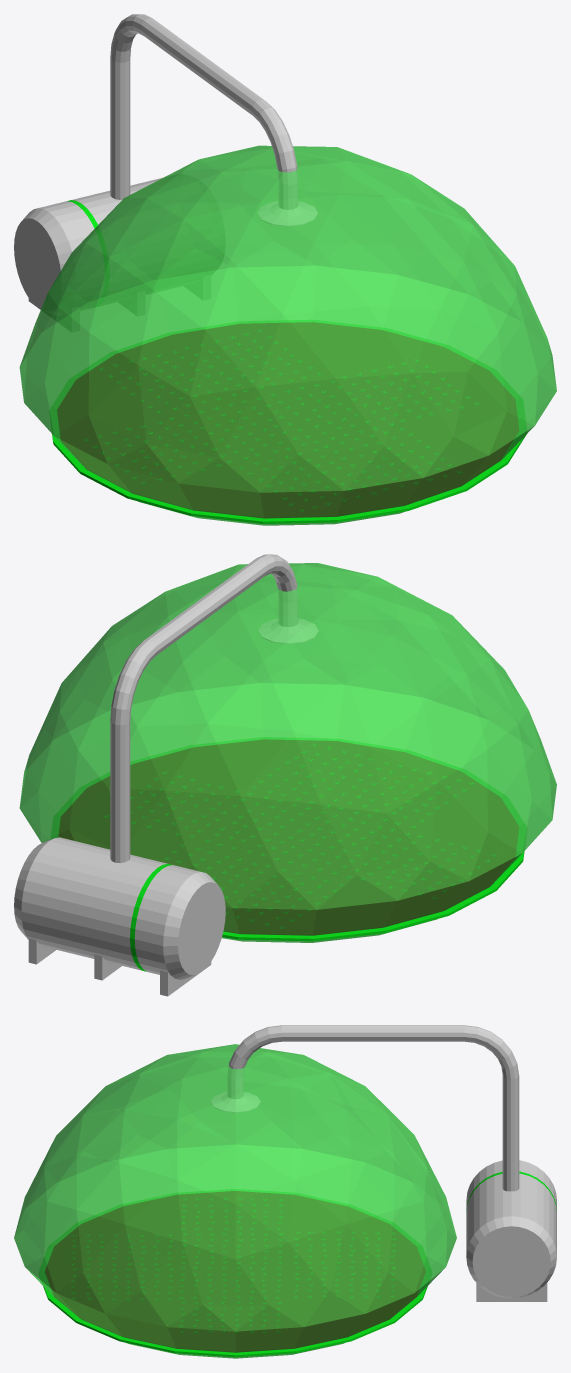
File: grow_house.fbx
3 renders of one model, top to bottom at view 1: azimuth 30°, elevation 25°; view 2: azimuth 150°, elevation 25°; view 3: azimuth 270°, elevation 25°, orthographic. The views are drawn at different scales.
Visible parts, largest first — view 1: Icosphere, ground, pipe, Cylinder, ground.001, sprouts.003, sprouts.002, sprouts.001, sprouts; view 2: Icosphere, ground, Cylinder, pipe, ground.001, supports, sprouts.001, sprouts.002, sprouts; view 3: Icosphere, ground, Cylinder, pipe, ground.001, supports, sprouts.001, sprouts.003, sprouts, sprouts.002.
Part boxes in pixels (left/top/right/bottom): Icosphere: left=19, top=145, right=556, bottom=525; ground: left=57, top=322, right=519, bottom=517; pipe: left=110, top=14, right=317, bottom=226; Cylinder: left=14, top=177, right=163, bottom=309; ground.001: left=52, top=400, right=526, bottom=523; sprouts.003: left=99, top=330, right=321, bottom=413; sprouts.002: left=240, top=428, right=461, bottom=511; sprouts.001: left=83, top=400, right=306, bottom=484; sprouts: left=257, top=359, right=479, bottom=443; Icosphere: left=19, top=563, right=556, bottom=942; ground: left=58, top=739, right=519, bottom=935; Cylinder: left=14, top=837, right=225, bottom=979; pipe: left=110, top=554, right=318, bottom=862; ground.001: left=58, top=818, right=524, bottom=941; supports: left=28, top=938, right=211, bottom=996; sprouts.001: left=274, top=815, right=496, bottom=898; sprouts.002: left=252, top=744, right=473, bottom=828; sprouts: left=104, top=772, right=325, bottom=856; Icosphere: left=14, top=1044, right=456, bottom=1358; ground: left=45, top=1191, right=425, bottom=1352; Cylinder: left=466, top=1160, right=556, bottom=1298; pipe: left=211, top=1025, right=519, bottom=1191; ground.001: left=43, top=1271, right=427, bottom=1357; supports: left=476, top=1283, right=547, bottom=1301; sprouts.001: left=181, top=1198, right=283, bottom=1264; sprouts.003: left=294, top=1231, right=395, bottom=1297; sprouts: left=180, top=1266, right=281, bottom=1333; sprouts.002: left=71, top=1234, right=172, bottom=1300.
Size of the model in its own units: 3230 by 3958 by 2056.
